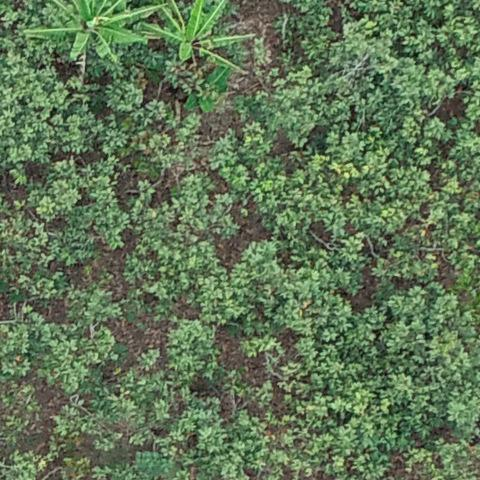Banana-plant: (133, 0, 257, 76), (21, 0, 169, 63)
